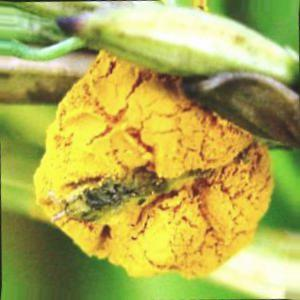Leaf_Scald: (158, 96, 232, 268), (97, 69, 151, 254), (43, 114, 86, 235), (240, 146, 270, 232)
